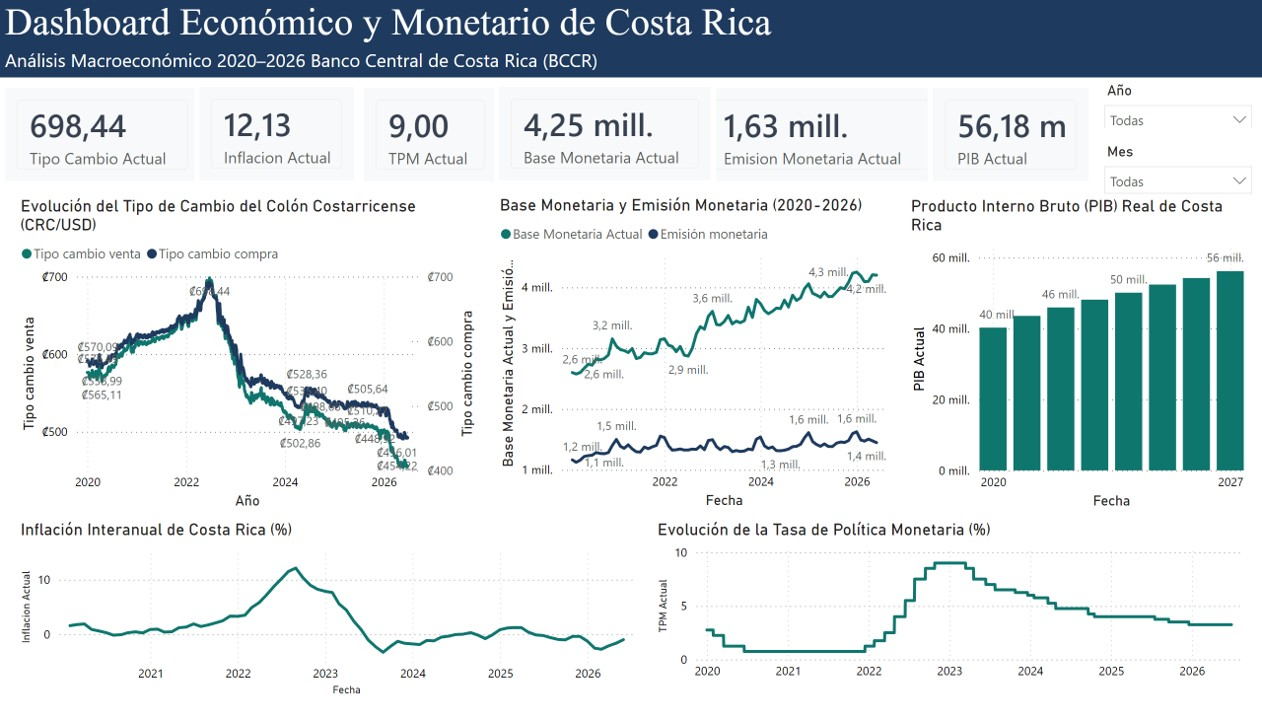

Layout of this report page (visuals, bound fields, positions):
{"tool":"powerbi","page":{"name":"Indicadores Económicos y Monetarios","canvas":[1280,720],"ordinal":0},"visuals":[{"type":"cardVisual","fields":{"Data":["Tipo cambio de compra y de venta del dólar de los Estados Unidos de América.Tipo Cambio Actual"]},"box":[0,84.3,208,105],"z":0},{"type":"cardVisual","fields":{"Data":["Índice de precios al consumidor (IPC).Inflacion Actual"]},"box":[197.1,82.9,167.1,105],"z":1000},{"type":"cardVisual","fields":{"Data":["Tasa de politica monetaria.TPM Actual"]},"box":[364.3,84.3,145.7,105.7],"z":2000},{"type":"cardVisual","fields":{"Data":["Panorama monetario del Banco Central-emision monetaria.Emision Monetaria Actual"]},"box":[704.3,84.3,260,105.7],"z":3000},{"type":"cardVisual","fields":{"Data":["Panorama monetario del Banco Central-emision monetaria.Base Monetaria Actual"]},"box":[501.4,82.9,225.7,105],"z":4000},{"type":"cardVisual","fields":{"Data":["PIB.PIB Actual"]},"box":[941.4,84.3,168.6,105.7],"z":5000},{"type":"lineChart","title":"Evolución del Tipo de Cambio del Colón Costarricense (CRC/USD)","fields":{"Category":["Tipo cambio de compra y de venta del dólar de los Estados Unidos de América.Fecha.Variation.Jerarquía de fechas.Año","Tipo cambio de compra y de venta del dólar de los Estados Unidos de América.Fecha.Variation.Jerarquía de fechas.Trimestr","Tipo cambio de compra y de venta del dólar de los Estados Unidos de América.Fecha.Variation.Jerarquía de fechas.Mes","Tipo cambio de compra y de venta del dólar de los Estados Unidos de América.Fecha.Variation.Jerarquía de fechas.Día"],"Y":["Sum(Tipo cambio de compra y de venta del dólar de los Estados Unidos de América.Tipo cambio venta)"],"Y2":["Sum(Tipo cambio de compra y de venta del dólar de los Estados Unidos de América.Tipo cambio compra)"]},"box":[15.7,198.6,470,321.4],"z":6000},{"type":"lineChart","title":"Base Monetaria y Emisión Monetaria (2020-2026)","fields":{"Category":["Panorama monetario del Banco Central-emision monetaria.Fecha"],"Y":["Panorama monetario del Banco Central-emision monetaria.Base Monetaria Actual","Sum(Panorama monetario del Banco Central-emision monetaria.Emisión monetaria)"]},"box":[501.7,198.3,405,321.7],"z":7000},{"type":"lineChart","title":"Inflación Interanual de Costa Rica (%)","fields":{"Category":["Índice de precios al consumidor (IPC).Fecha"],"Y":["Índice de precios al consumidor (IPC).Inflacion Actual"]},"box":[15.7,527.1,634.3,182.9],"z":8000},{"type":"clusteredColumnChart","title":"Producto Interno Bruto (PIB) Real de Costa Rica","fields":{"Category":["PIB.Fecha"],"Y":["PIB.PIB Actual"]},"box":[918.6,198.6,348.6,321.4],"z":9000},{"type":"lineChart","title":"Evolución de la Tasa de Política Monetaria (%)","fields":{"Category":["Tasa de politica monetaria.Fecha"],"Y":["Tasa de politica monetaria.TPM Actual"]},"box":[661.7,526.7,605,171.7],"z":10000},{"type":"slicer","fields":{"Values":["Calendario.Año"]},"box":[1110,78.3,170,51.7],"z":11000},{"type":"slicer","fields":{"Values":["Calendario.Mes"]},"box":[1110,140,170,56.7],"z":12000},{"type":"textbox","title":"Dashboard Económico y Monetario de Costa Rica","box":[0,0,1280,78.3],"z":13000}]}

Visuals, with their boxes in screenshot pixels (x1, y1, x2, y2), scaled from the page's 1280x720 canvas onto the 1262x720 screenshot:
cardVisual - Tipo cambio de compra y de venta del dólar de los Estados Unidos de América.Tipo Cambio Actual: box=[0, 84, 205, 189]
cardVisual - Índice de precios al consumidor (IPC).Inflacion Actual: box=[194, 83, 359, 188]
cardVisual - Tasa de politica monetaria.TPM Actual: box=[359, 84, 503, 190]
cardVisual - Panorama monetario del Banco Central-emision monetaria.Emision Monetaria Actual: box=[694, 84, 951, 190]
cardVisual - Panorama monetario del Banco Central-emision monetaria.Base Monetaria Actual: box=[494, 83, 717, 188]
cardVisual - PIB.PIB Actual: box=[928, 84, 1094, 190]
"Evolución del Tipo de Cambio del Colón Costarricense (CRC/USD)" lineChart: box=[15, 199, 479, 520]
"Base Monetaria y Emisión Monetaria (2020-2026)" lineChart: box=[495, 198, 894, 520]
"Inflación Interanual de Costa Rica (%)" lineChart: box=[15, 527, 641, 710]
"Producto Interno Bruto (PIB) Real de Costa Rica" clusteredColumnChart: box=[906, 199, 1249, 520]
"Evolución de la Tasa de Política Monetaria (%)" lineChart: box=[652, 527, 1249, 698]
slicer - Calendario.Año: box=[1094, 78, 1261, 130]
slicer - Calendario.Mes: box=[1094, 140, 1261, 197]
"Dashboard Económico y Monetario de Costa Rica" textbox: box=[0, 0, 1261, 78]
